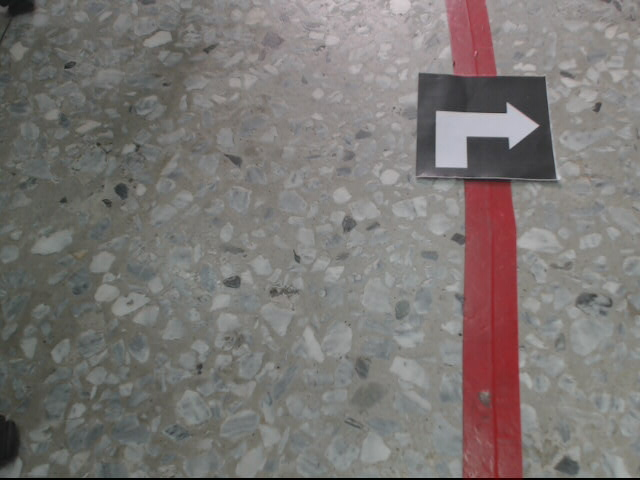right: (413, 71, 560, 181)
